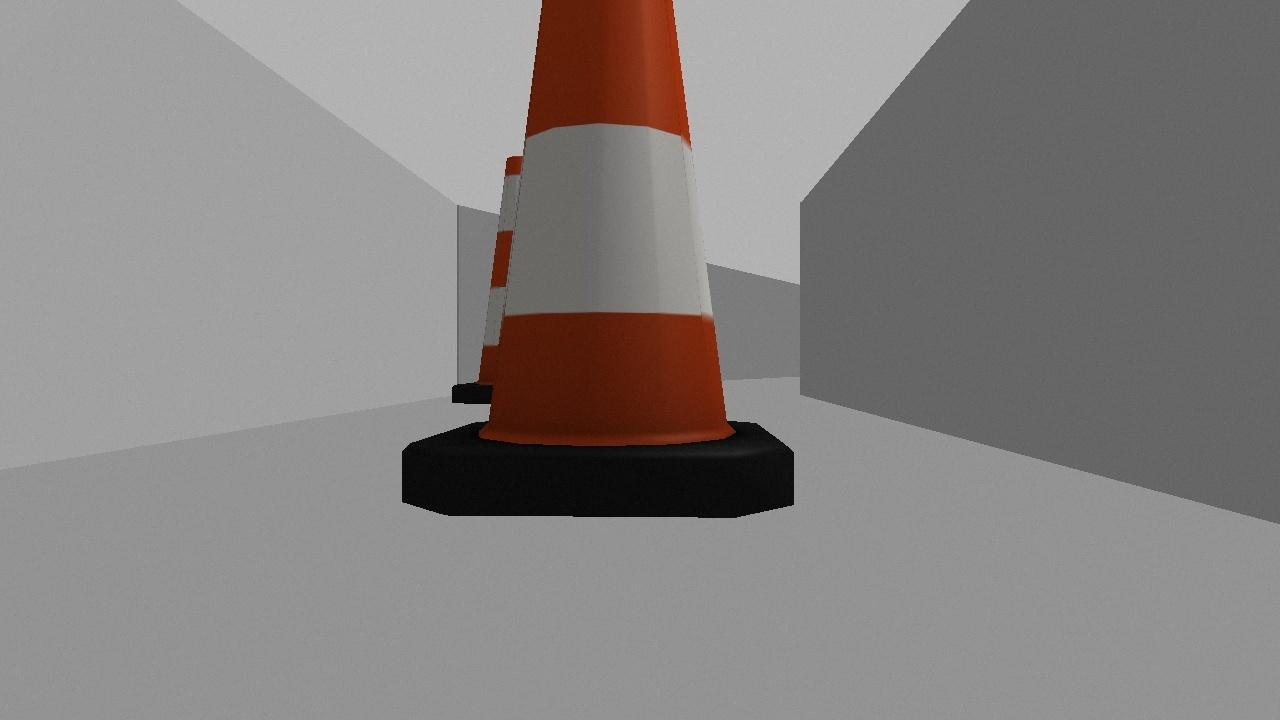cone_barrel: (378, 0, 815, 531), (446, 152, 577, 410)
